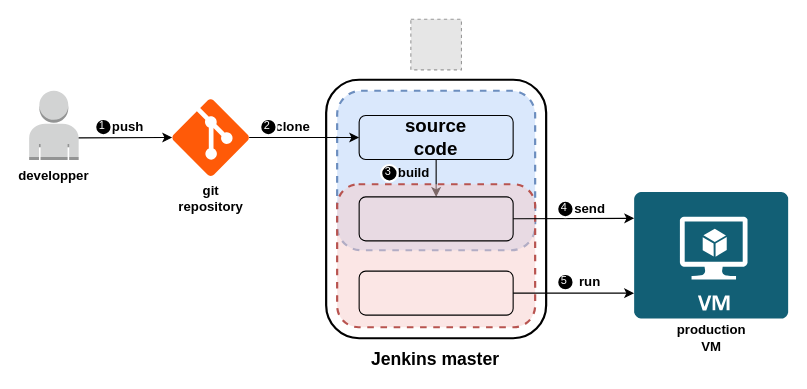
Some shapes in this 807 by 389 pixel diagram are drawn without their labels. Grey dashed boxes stand in for pictures. Each missing label, with the centre of its shape:
built project: point (435, 218)
Jenkins job: point (435, 292)
